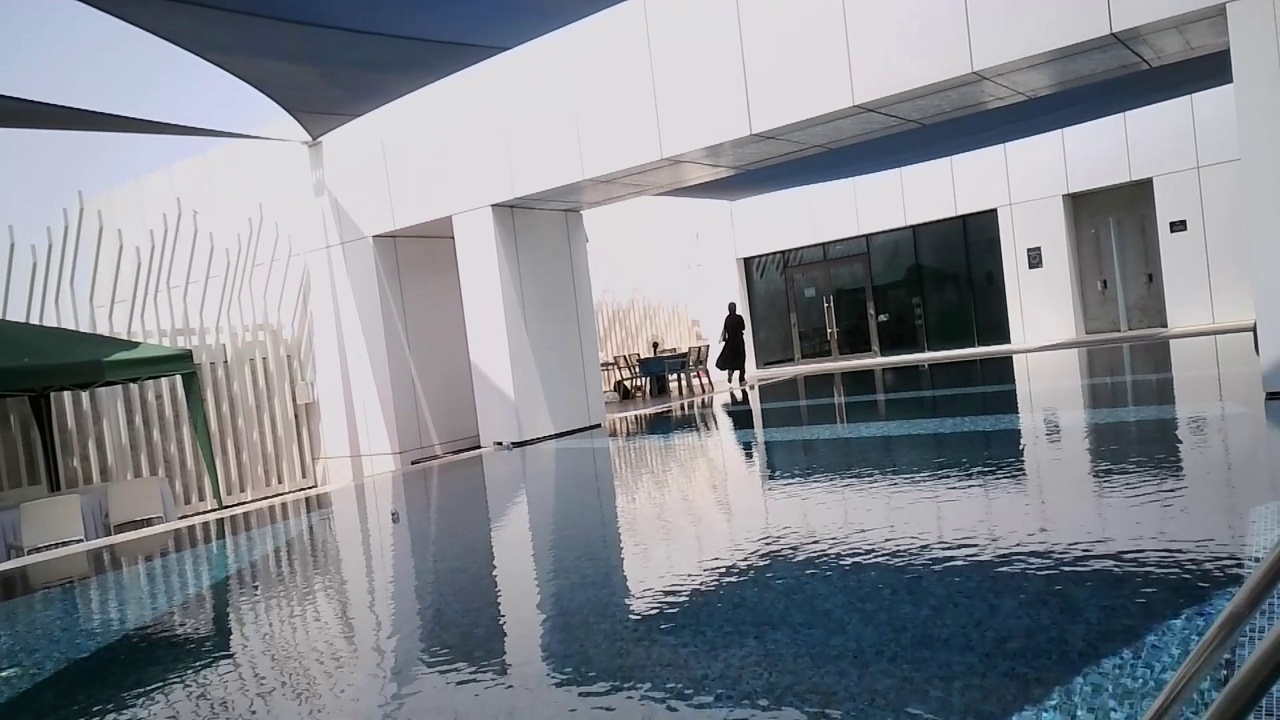debris: (495, 436, 514, 453), (387, 504, 398, 519), (915, 358, 927, 370)
